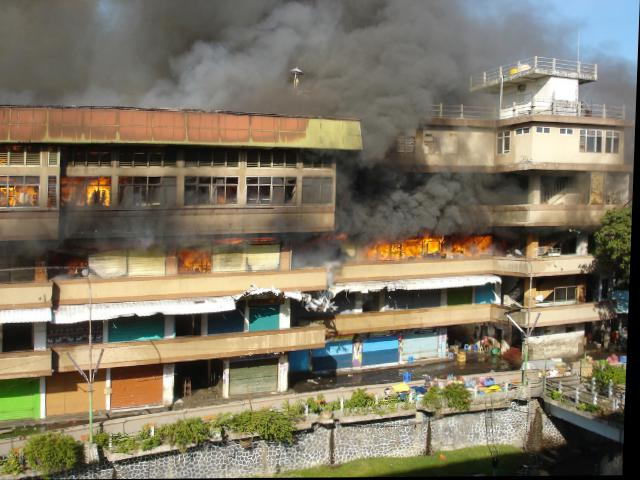fire: (355, 228, 498, 265), (59, 175, 116, 204), (174, 241, 216, 274), (0, 175, 41, 204), (217, 233, 281, 244), (61, 247, 88, 272)
